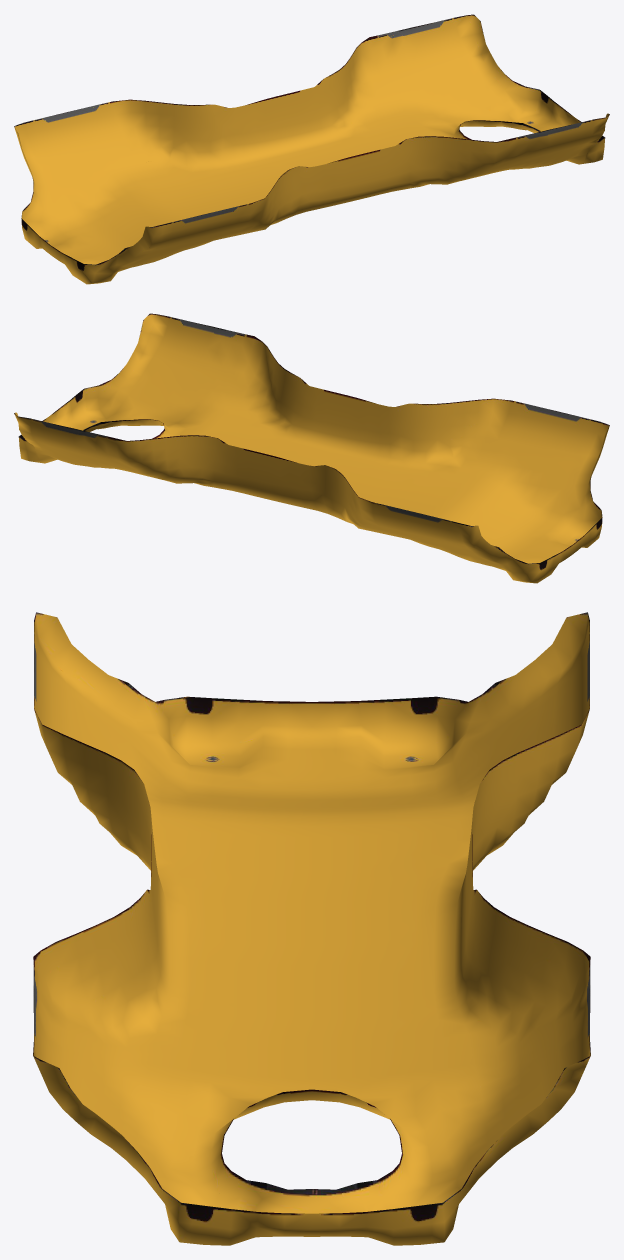
File: bottom_shell.dae
The picture shows the model from 3 angles, top to bottom: view 1: azimuth 30°, elevation 25°; view 2: azimuth 150°, elevation 25°; view 3: azimuth 270°, elevation 25°; orthographic projection. The views are drawn at different scales.
Parts seen in each view (by area): view 1: bottom_shell_refined; view 2: bottom_shell_refined; view 3: bottom_shell_refined.
Part boxes in pixels (left/top/right/bottom): bottom_shell_refined: left=14, top=14, right=609, bottom=284; bottom_shell_refined: left=14, top=313, right=609, bottom=583; bottom_shell_refined: left=33, top=612, right=590, bottom=1245.
Size of the model in its own units: 0.7308 by 0.3367 by 0.1088.
